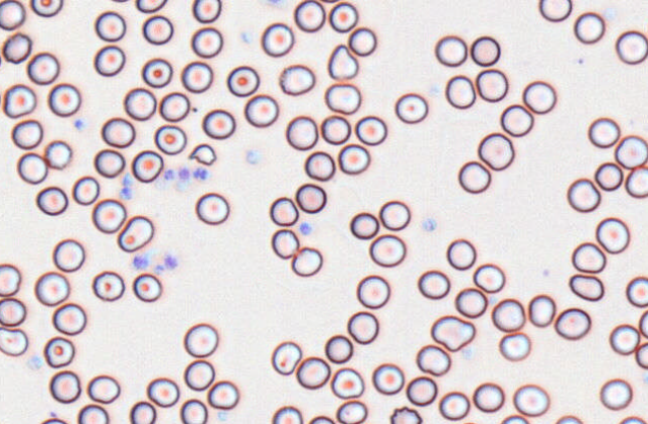PLT: (130, 253, 154, 270), (192, 164, 211, 183), (162, 166, 180, 184), (27, 354, 46, 371), (179, 164, 195, 183), (244, 150, 262, 166), (298, 220, 314, 237), (165, 253, 181, 270), (422, 217, 438, 233), (74, 117, 89, 133), (120, 186, 135, 201), (121, 170, 135, 186), (154, 262, 165, 275)
RBC: (477, 132, 514, 170), (117, 215, 153, 252), (595, 216, 630, 253), (368, 233, 406, 267), (34, 271, 70, 306), (91, 198, 126, 233), (183, 322, 218, 357), (512, 383, 549, 416), (554, 307, 591, 340), (491, 297, 525, 332), (244, 93, 279, 127), (566, 177, 600, 212), (324, 82, 361, 114), (278, 63, 315, 95), (356, 274, 390, 308), (47, 82, 81, 116), (522, 80, 556, 114), (295, 356, 330, 389), (614, 134, 647, 169), (285, 115, 318, 150), (261, 22, 294, 57), (457, 160, 491, 193), (48, 369, 81, 403), (52, 238, 85, 272), (500, 103, 533, 137), (52, 302, 86, 335), (195, 192, 229, 225), (475, 68, 508, 102), (571, 241, 606, 273), (371, 362, 404, 395), (26, 51, 59, 84), (123, 87, 156, 120), (330, 367, 364, 399), (615, 30, 647, 64), (100, 117, 135, 148), (445, 74, 476, 109), (16, 151, 48, 184), (599, 378, 632, 410), (131, 149, 163, 182), (573, 11, 605, 44), (190, 26, 223, 58), (181, 60, 213, 93), (226, 65, 259, 97), (434, 34, 467, 66), (347, 310, 378, 344), (201, 108, 235, 139), (394, 92, 428, 123), (271, 340, 301, 375), (183, 359, 215, 391), (293, 0, 325, 32), (93, 44, 125, 76), (454, 287, 487, 318), (472, 262, 505, 293), (337, 143, 370, 174), (91, 270, 124, 301), (153, 124, 186, 155), (587, 117, 620, 148), (568, 273, 604, 301), (405, 375, 437, 406), (609, 323, 640, 355), (43, 336, 74, 368), (158, 91, 190, 122), (94, 10, 126, 41), (417, 269, 450, 299), (498, 331, 531, 361), (146, 377, 179, 407), (354, 115, 387, 145), (86, 374, 120, 403), (304, 150, 335, 181), (142, 14, 173, 45), (295, 182, 326, 213), (141, 57, 172, 88), (93, 148, 125, 178), (472, 382, 504, 412), (446, 238, 476, 270), (11, 119, 43, 149), (378, 200, 410, 230), (2, 31, 31, 64), (35, 186, 68, 215), (527, 294, 556, 327), (291, 246, 322, 276), (320, 114, 351, 144), (328, 1, 358, 32), (470, 35, 500, 66), (438, 391, 470, 420), (207, 380, 239, 409), (132, 272, 162, 302), (270, 228, 299, 259), (269, 196, 298, 226), (594, 161, 623, 191), (347, 26, 376, 56), (324, 334, 353, 363), (44, 139, 72, 169), (349, 211, 379, 239), (72, 175, 99, 205), (335, 399, 367, 423), (0, 297, 26, 326), (0, 0, 25, 30), (538, 0, 572, 22), (625, 166, 647, 198), (0, 263, 21, 296), (625, 276, 647, 307), (180, 398, 207, 423), (192, 0, 221, 23), (129, 400, 156, 423), (77, 403, 108, 423), (389, 405, 422, 423), (30, 0, 63, 17), (271, 405, 302, 423), (135, 0, 167, 13), (635, 341, 647, 369), (638, 309, 648, 338), (554, 414, 583, 423), (500, 414, 528, 423), (618, 415, 646, 423), (308, 415, 334, 423), (40, 417, 68, 423), (319, 0, 341, 3), (459, 421, 479, 424), (108, 0, 130, 2)
Schistocyte: (430, 314, 477, 353), (3, 83, 37, 118), (416, 344, 452, 377), (328, 43, 360, 80), (0, 326, 29, 358), (188, 143, 218, 167)
